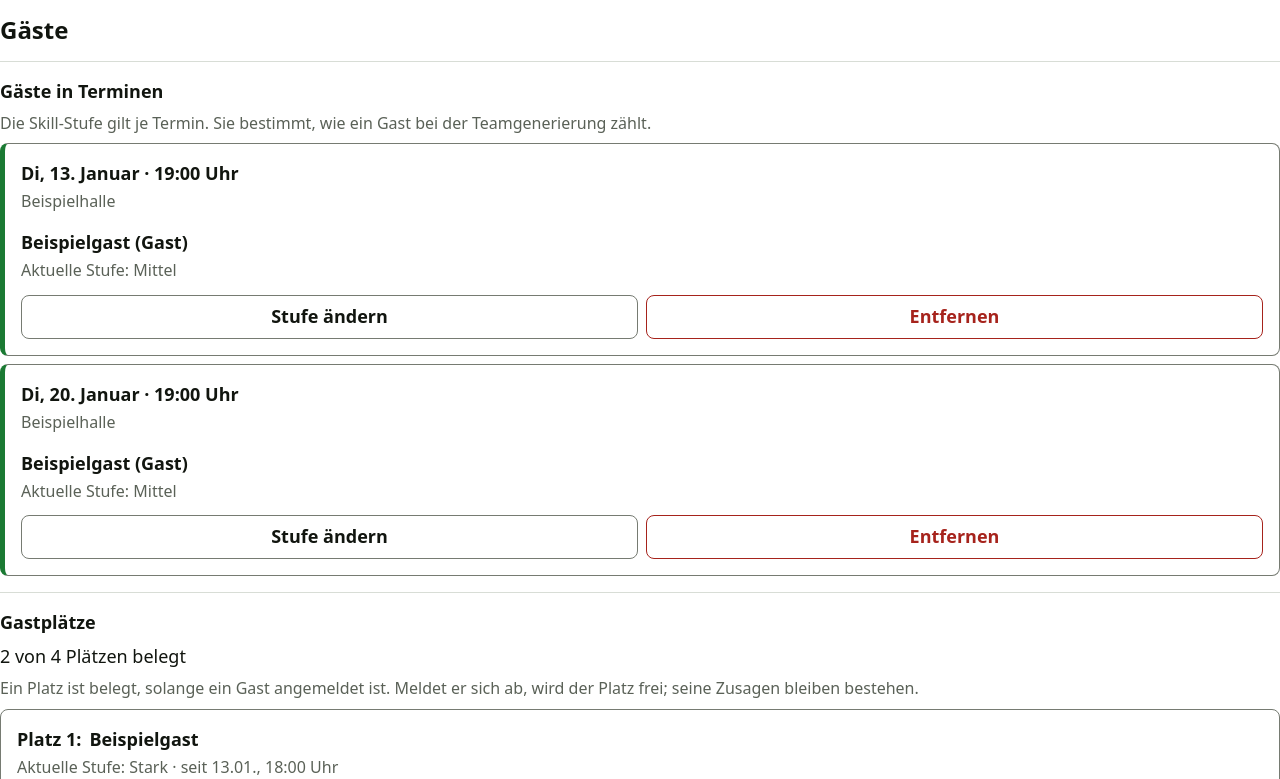
Gäste in Terminen – Entfernen (Absage für den Gast, Vertrag seit 24.10.2026) › sendet Termin und Namen unverändert; die Zeile verschwindet, der Hinweis steht da, der Fokus liegt auf der Abschnittsüberschrift
What coordinates should you click on to do the following:
click the 1st button "Entfernen"
I would click on:
 (954, 317)
Its box is [646,295,1263,339].
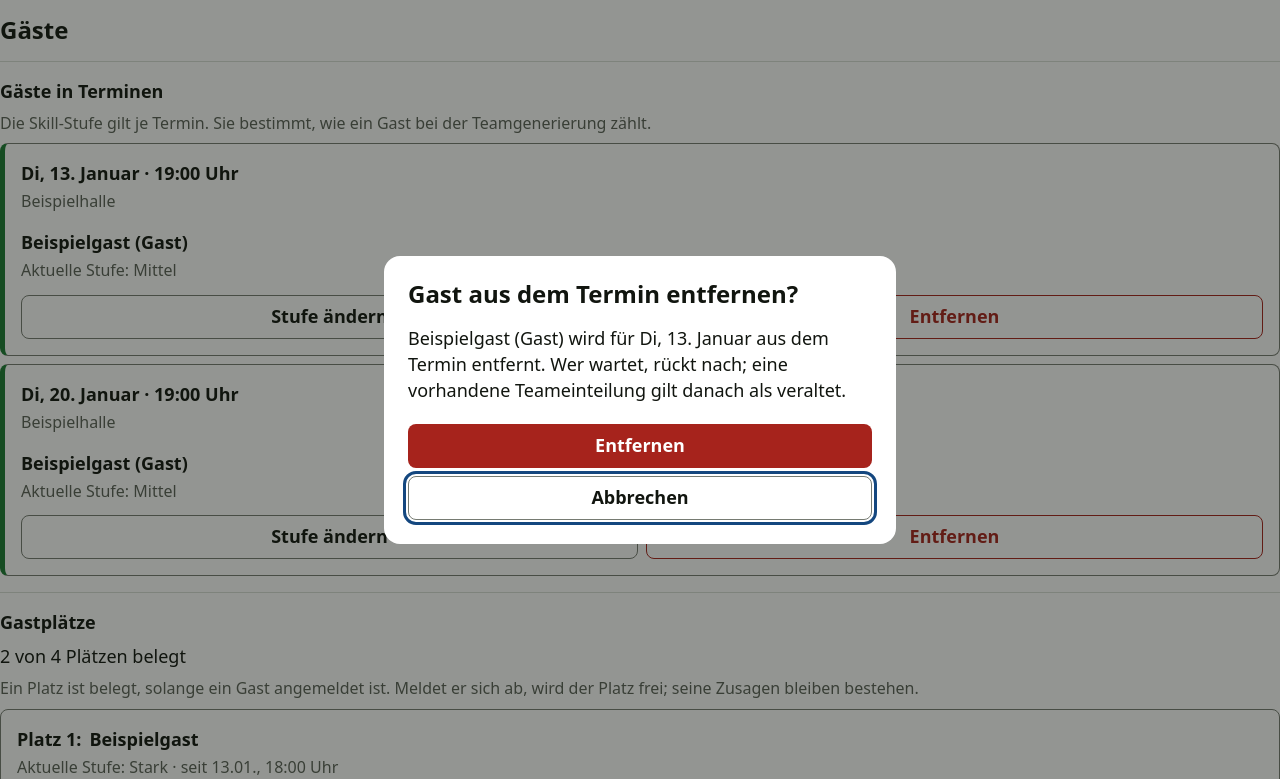
What coordinates should you click on to do the following:
click the button with test id "admin-gast-entfernen-dialog-bestaetigen"
I would click on:
 (640, 446)
Its box is [408,424,872,468].
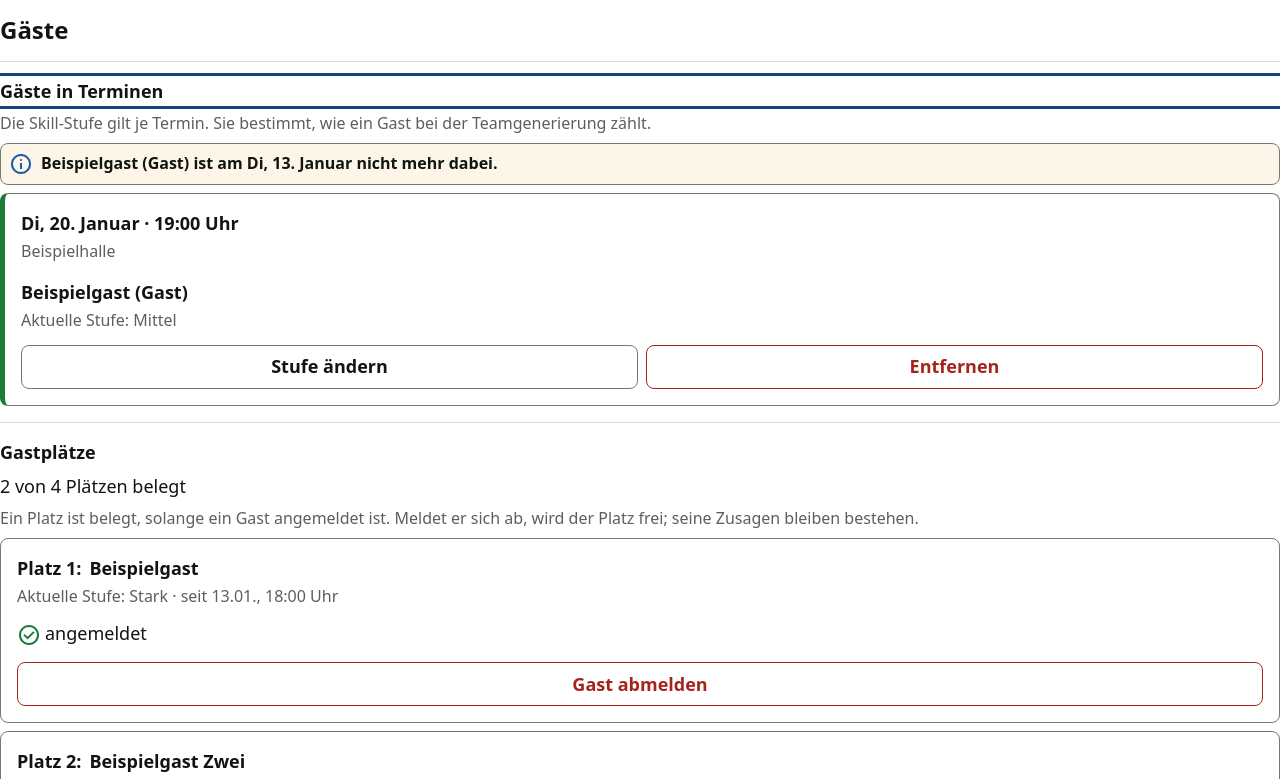
Now the heading with test id "admin-gaeste-termin-101" is gone
Now the message with test id "admin-gaeste-termine-hinweis" shows "Beispielgast (Gast) ist am", box [41,152,498,174]
Now the message with test id "admin-gaeste-termine-hinweis" shows "nicht mehr dabei.", box [41,152,498,174]
